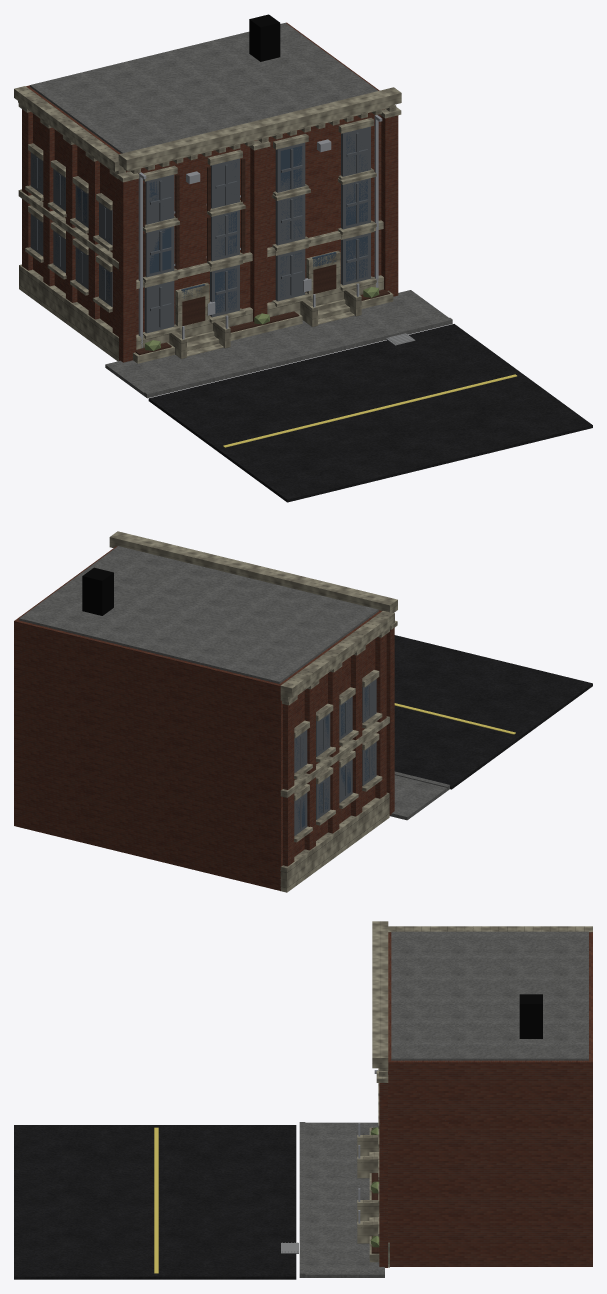
The picture shows the model from 3 angles, top to bottom: view 1: azimuth 30°, elevation 25°; view 2: azimuth 150°, elevation 25°; view 3: azimuth 270°, elevation 25°; orthographic projection.
Parts seen in each view (by area): view 1: road_asphalt, roof_slab, facade_wall, sidewalk, cornice, pier00, pier02, pier01, ef_base, curb, ef_cornice, facade_base (+30 smaller); view 2: facade_wall, roof_slab, road_asphalt, cornice, ef_base, ef_cornice, ef_pil4, ef_pil0, ef_pil1, pier00, sidewalk, ef_pil2 (+7 smaller); view 3: facade_wall, road_asphalt, roof_slab, sidewalk, cornice, pier02, ef_cornice, curb, chimney.
Boxes of the visible parts, <box> form: road_asphalt: <box>148,324,592,502</box>; roof_slab: <box>30,22,378,153</box>; facade_wall: <box>26,22,384,334</box>; sidewalk: <box>105,290,448,395</box>; cornice: <box>118,87,401,169</box>; pier00: <box>119,179,136,362</box>; pier02: <box>381,115,398,296</box>; pier01: <box>250,147,267,321</box>; ef_base: <box>19,264,118,361</box>; curb: <box>144,317,452,398</box>; ef_cornice: <box>14,86,123,171</box>; facade_base: <box>136,275,383,349</box>; facade_wall: <box>14,546,381,890</box>; roof_slab: <box>19,546,378,683</box>; road_asphalt: <box>394,635,592,789</box>; cornice: <box>109,531,397,612</box>; ef_base: <box>280,792,389,892</box>; ef_cornice: <box>280,611,394,697</box>; ef_pil4: <box>283,702,294,866</box>; ef_pil0: <box>375,634,386,798</box>; ef_pil1: <box>351,652,362,816</box>; pier00: <box>386,628,394,815</box>; sidewalk: <box>389,775,447,820</box>; ef_pil2: <box>328,669,339,833</box>; facade_wall: <box>388,932,592,1266</box>; road_asphalt: <box>14,1125,296,1279</box>; roof_slab: <box>391,931,588,1060</box>; sidewalk: <box>303,1122,384,1277</box>; cornice: <box>372,921,388,1068</box>; pier02: <box>379,1083,387,1267</box>; ef_cornice: <box>388,926,592,932</box>; curb: <box>299,1122,305,1277</box>; chimney: <box>519,994,542,1038</box>.
Bounding box in the file's own units: 1400 × 1050 × 2255.
Materials: 12 (6 with a texture image).
